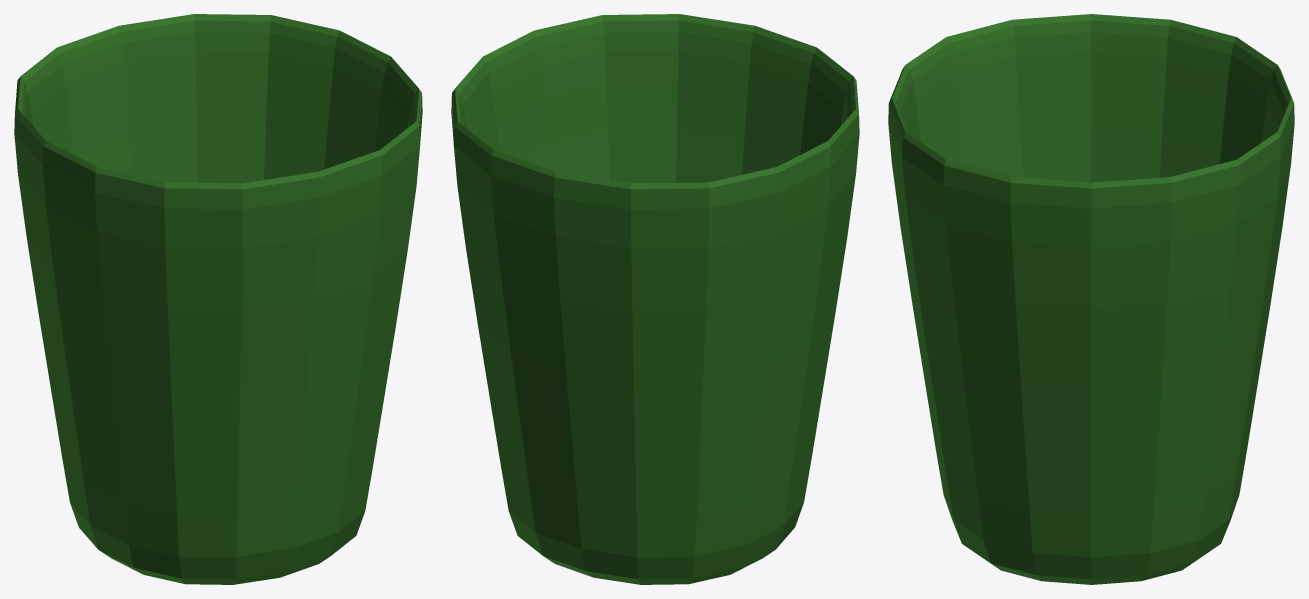
The model's file is bak.fbx.
The picture shows the model from 3 angles, left to right: view 1: azimuth 30°, elevation 25°; view 2: azimuth 150°, elevation 25°; view 3: azimuth 270°, elevation 25°; orthographic projection.
Parts seen in each view (by area): view 1: Cube.029; view 2: Cube.029; view 3: Cube.029.
Boxes of the visible parts, x1,y1,x2,y2 form: Cube.029: [14, 14, 422, 584]; Cube.029: [451, 14, 859, 584]; Cube.029: [888, 14, 1294, 584].
Size of the model in its own units: 83.49 by 100 by 83.49.
